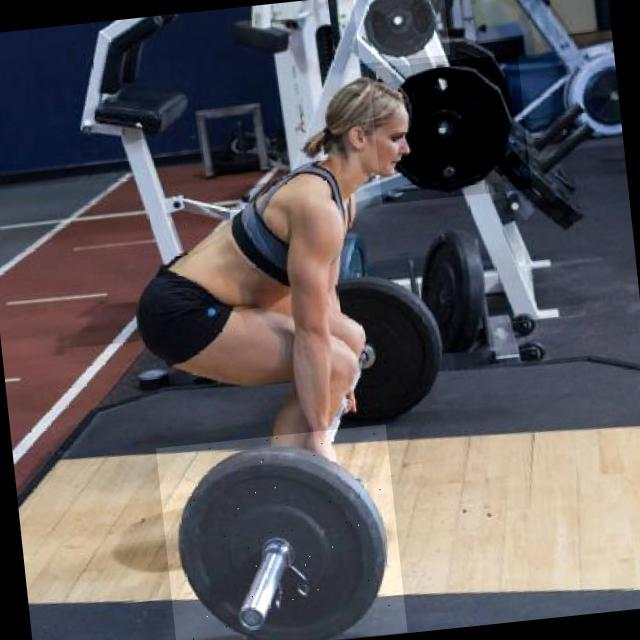barbell: (156, 425, 408, 640), (369, 54, 533, 205), (353, 1, 451, 64)
